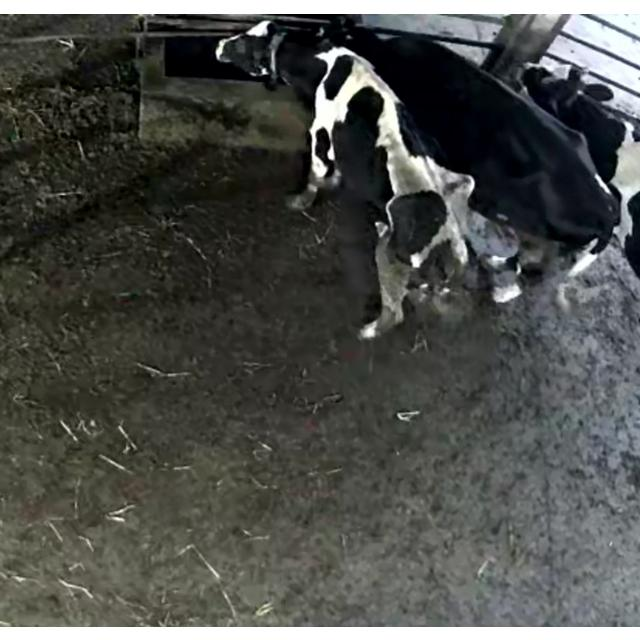drink: (324, 19, 446, 93)
